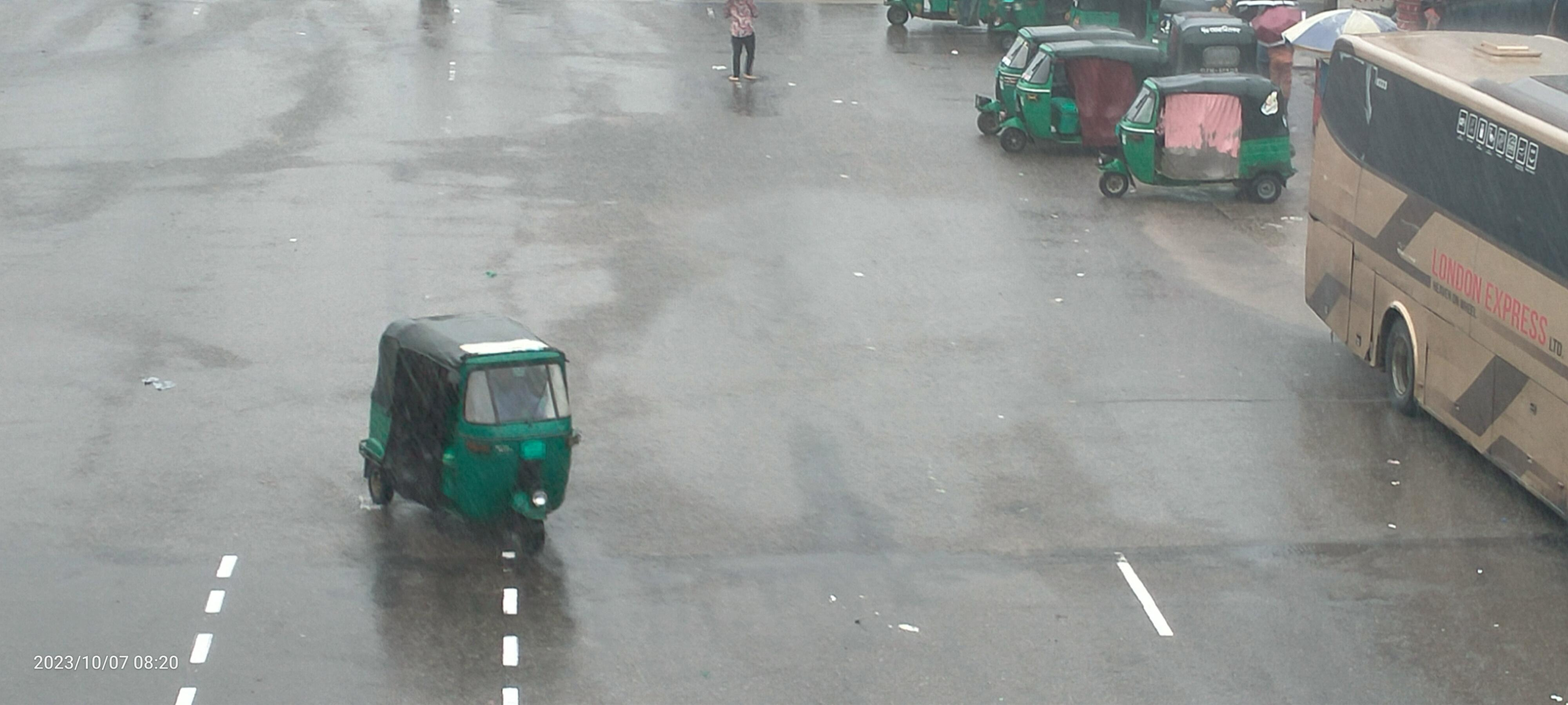Bus: (1278, 0, 1568, 566)
